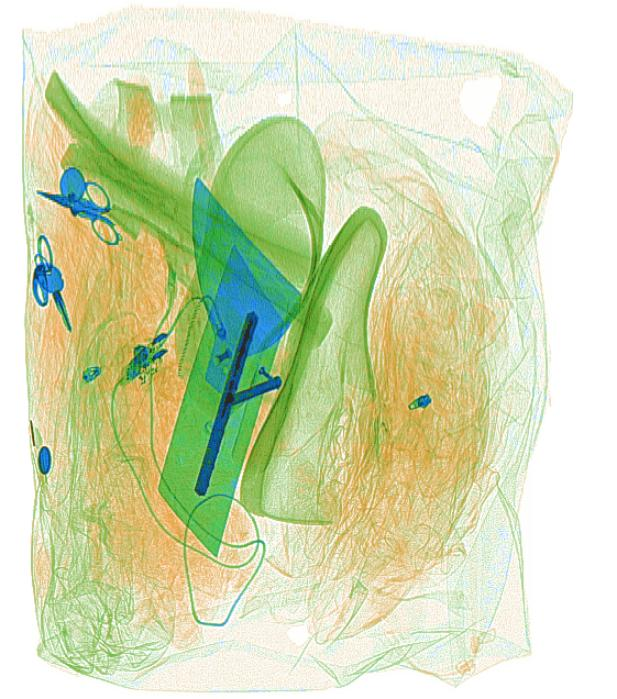scissors: (35, 179, 122, 245)
